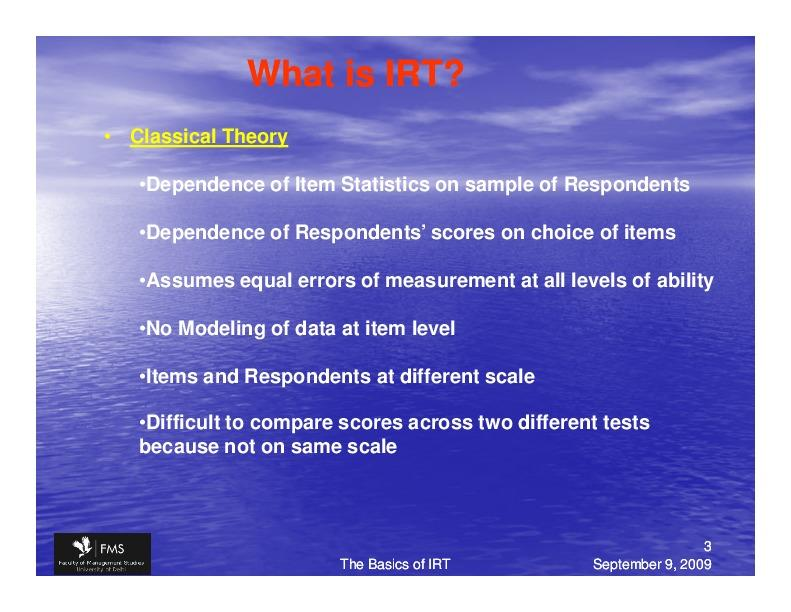paragraph: (131, 156, 732, 486)
subtitle: (90, 118, 323, 155)
title: (237, 41, 483, 108)
